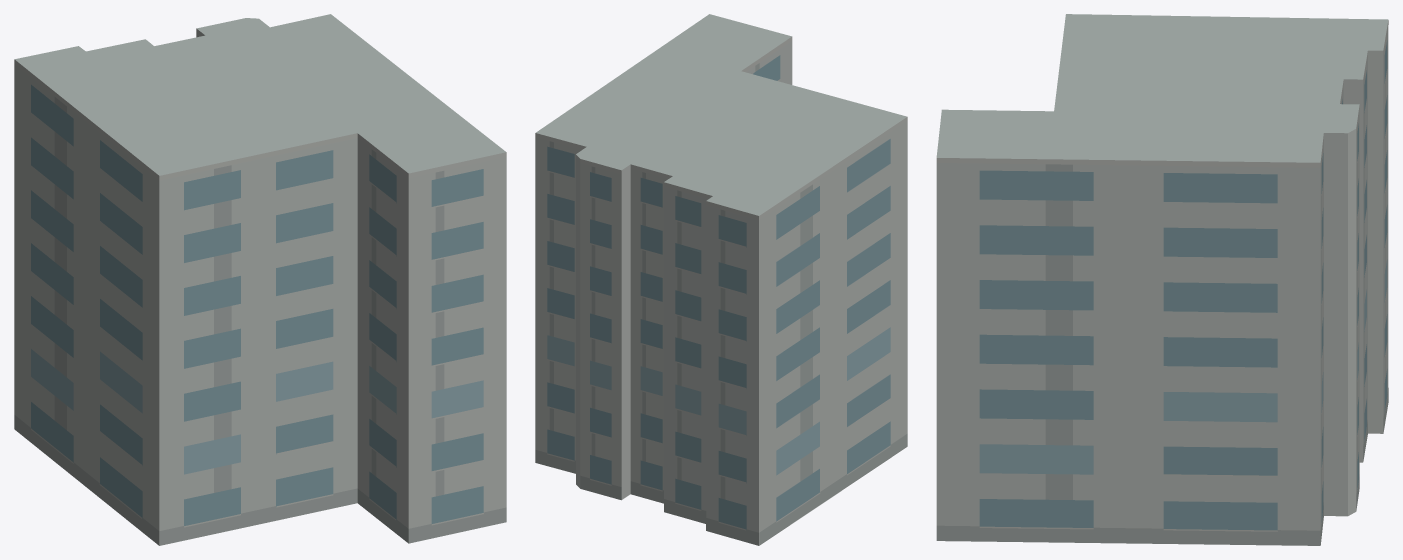
Rendered from survey-upis-32663871.glb.
The picture shows the model from 3 angles, left to right: view 1: azimuth 30°, elevation 25°; view 2: azimuth 150°, elevation 25°; view 3: azimuth 270°, elevation 25°; orthographic projection. The views are drawn at different scales.
Visible parts, largest first — view 1: survey-upis-32663871.tmp; view 2: survey-upis-32663871.tmp; view 3: survey-upis-32663871.tmp.
Part boxes in pixels (x1,y1,x2,y2): survey-upis-32663871.tmp: [14, 14, 506, 545]; survey-upis-32663871.tmp: [535, 14, 907, 545]; survey-upis-32663871.tmp: [936, 14, 1388, 545].
Size of the model in its own units: 15.42 by 18.5 by 19.79.
